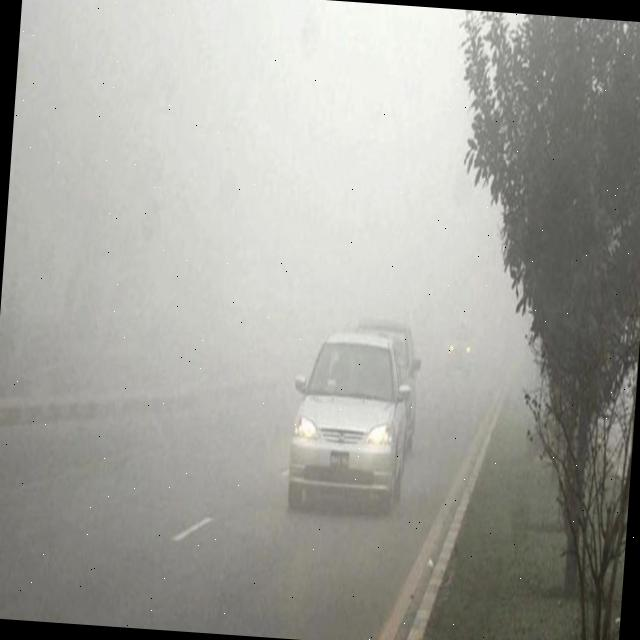car: (285, 334, 415, 518), (342, 320, 423, 452), (444, 320, 476, 379)
